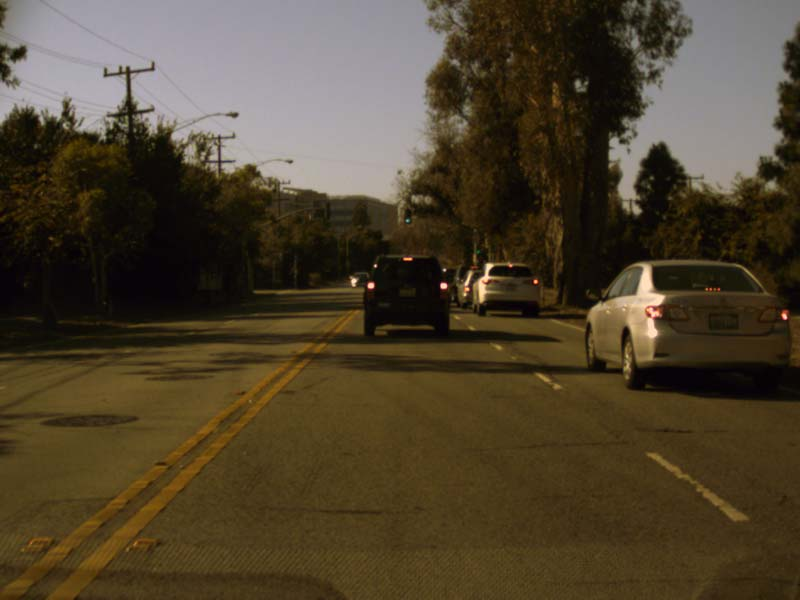Green: (404, 209, 411, 224), (476, 245, 482, 259)
